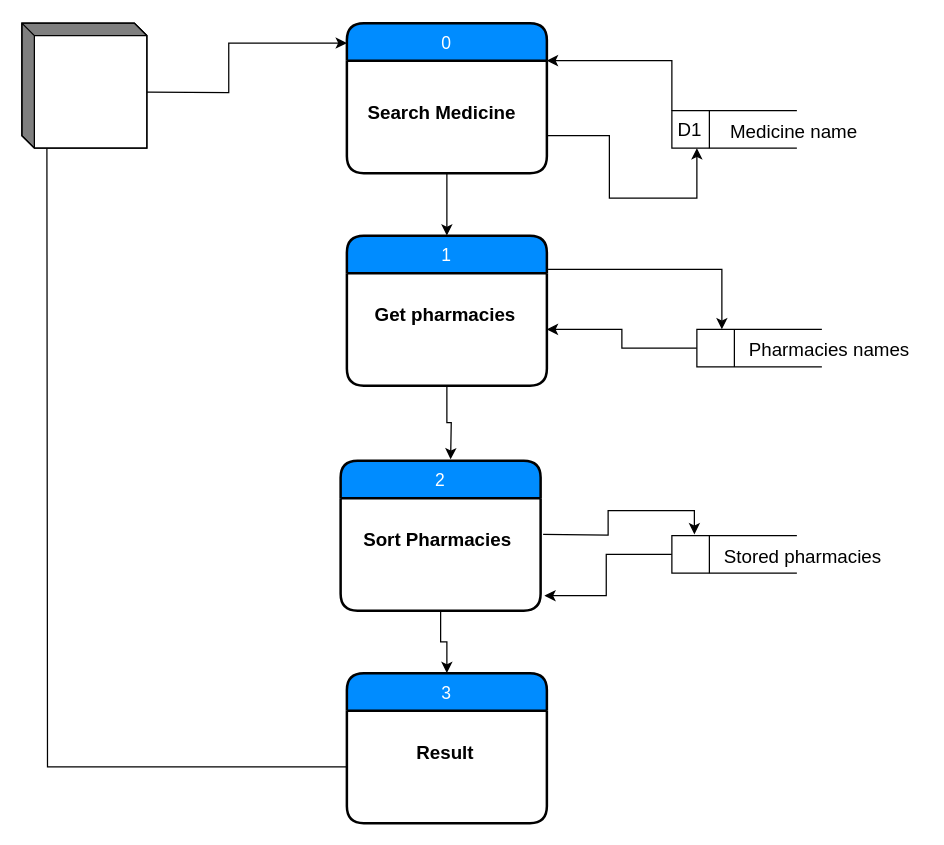
The diagram is 944 pixels wide and 845 high, and some of its shapes have lost their labels. Here are the shapes that lost their labels. From the top down, the centre of each, then its label:
At point 84,85: "User".
At point 759,347: "D2".
At point 734,553: "D3".
